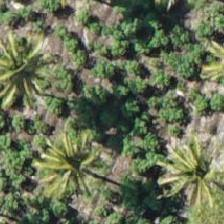coconut_tree: (29, 129, 119, 219), (144, 115, 223, 205), (0, 16, 58, 106)
